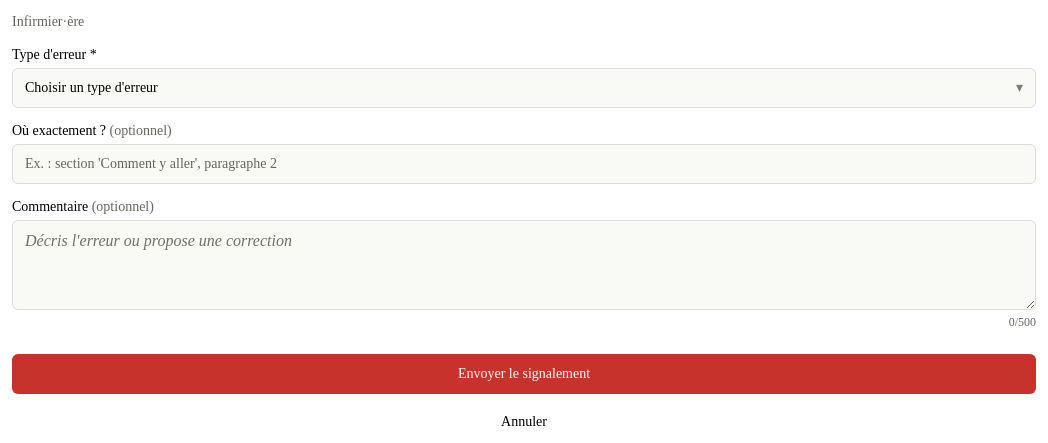
Test case: ReportErrorForm › updates comment counter as user types
This screenshot has width=1048, height=443.
In the text box with placeholder "Décris l'erreur ou propose une correction": [524, 265] box x1=12 y1=220 x2=1036 y2=310, type "abc"
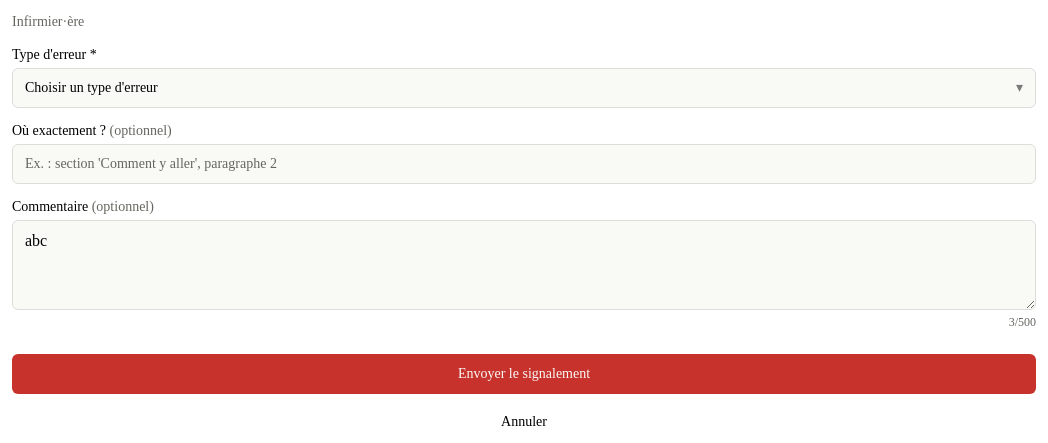
Expected: the text "3/500" is shown, x1=1009 y1=315 x2=1036 y2=329
